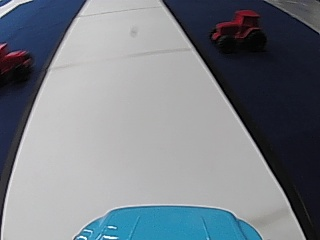tractor: (208, 8, 264, 53), (0, 43, 32, 85)
